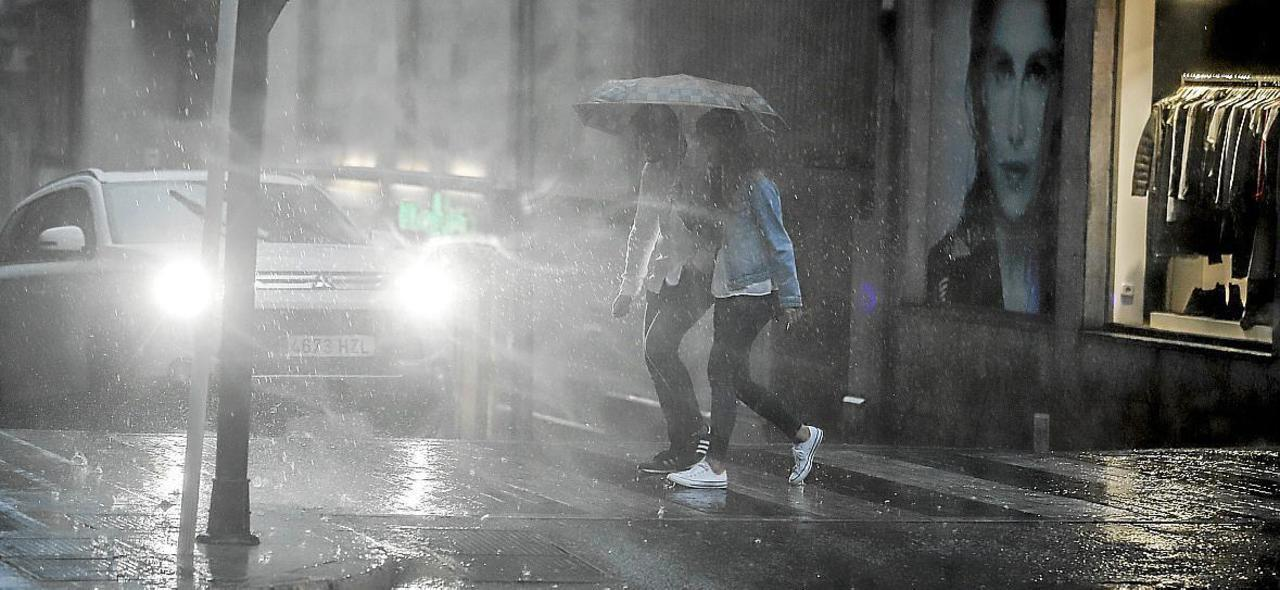car: (3, 151, 451, 425)
person: (672, 106, 830, 493), (620, 103, 705, 477)
